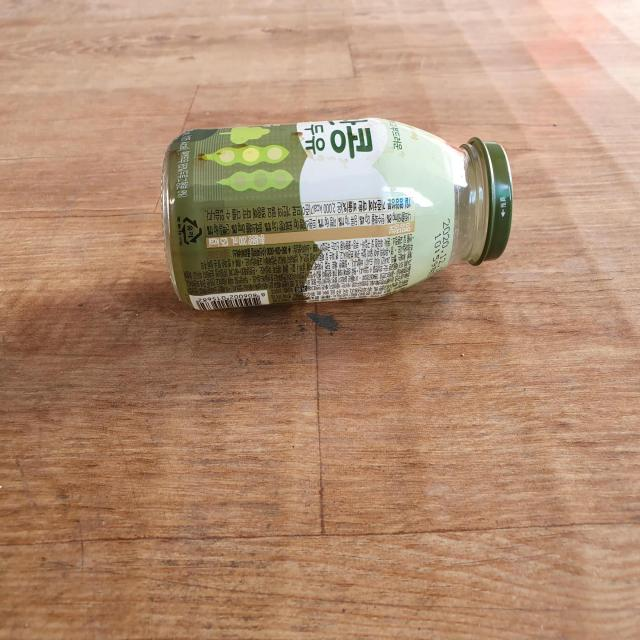glass: (161, 117, 513, 309)
